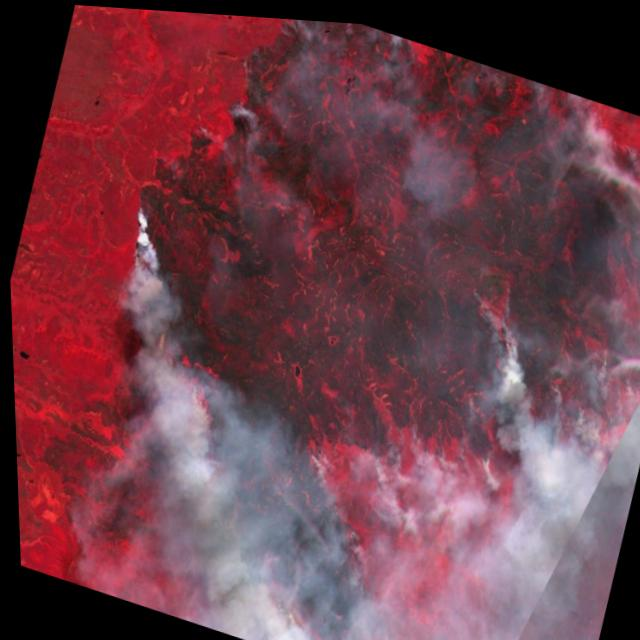fire: (26, 1, 640, 640)
